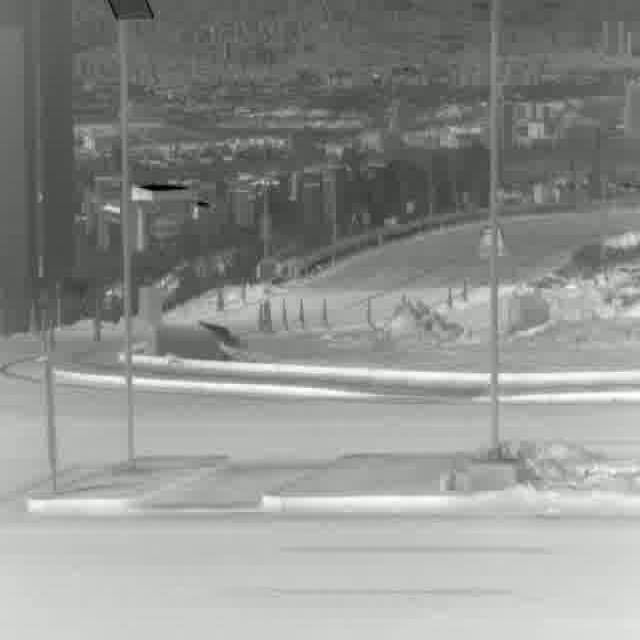Car: (478, 221, 506, 260)
